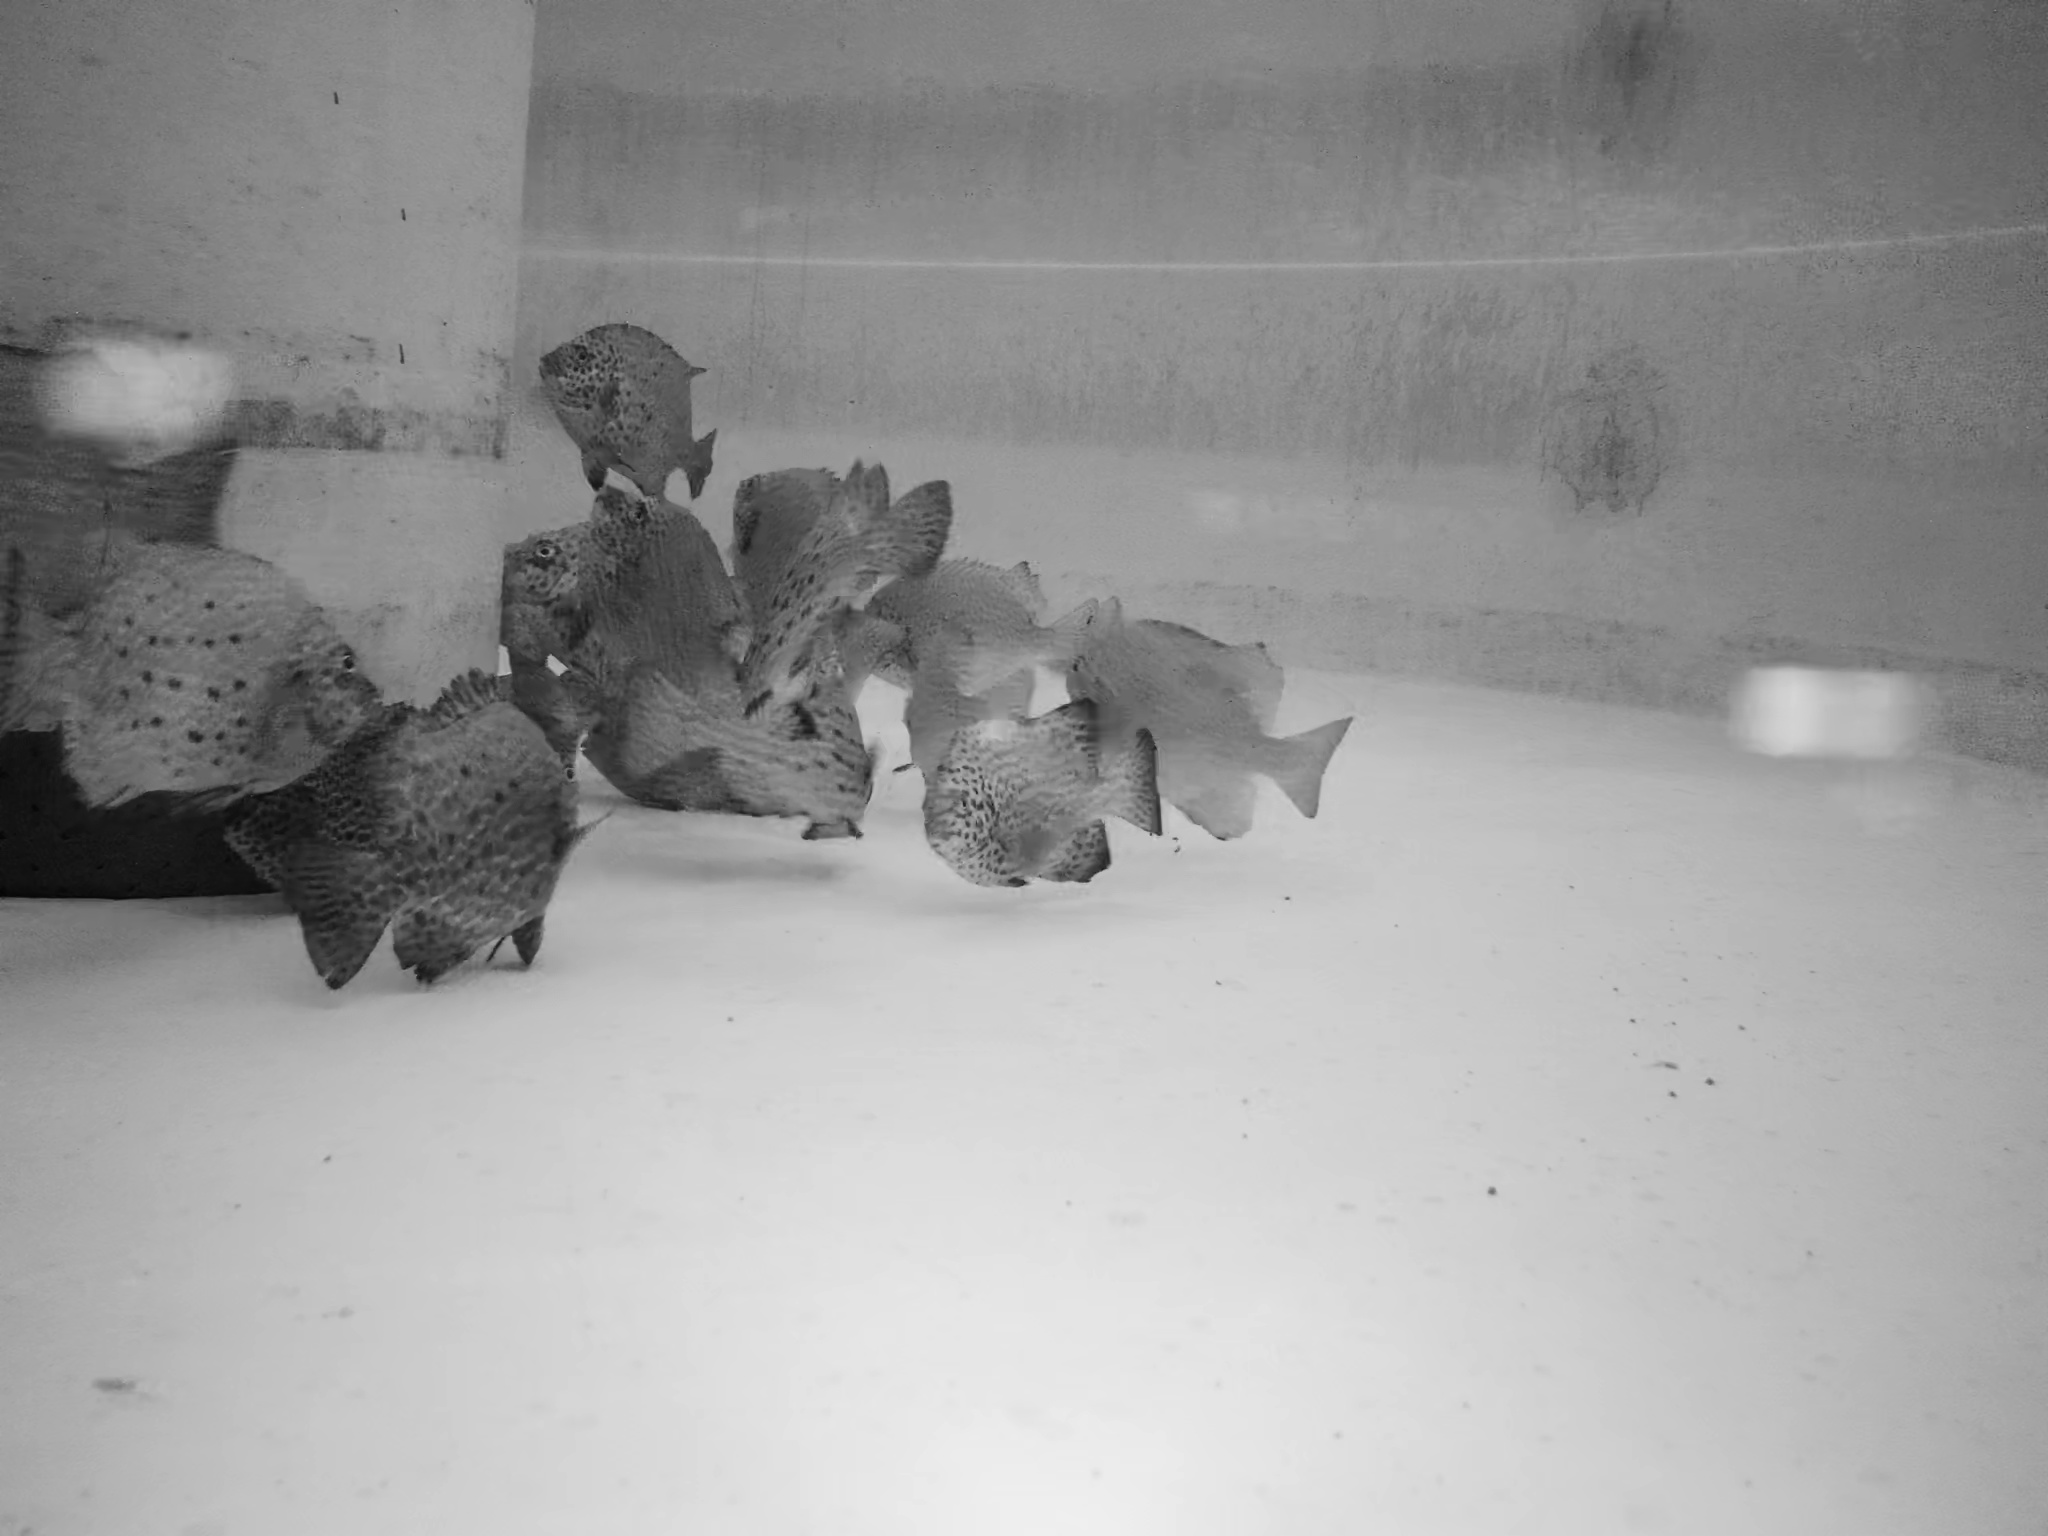fish: (3, 537, 382, 826), (1074, 620, 1358, 852), (245, 707, 427, 987), (398, 691, 566, 965), (616, 665, 868, 837), (939, 724, 1168, 886), (531, 315, 722, 503), (856, 566, 1111, 687), (722, 457, 958, 587), (589, 503, 731, 682), (495, 521, 593, 678), (900, 689, 1042, 783)
